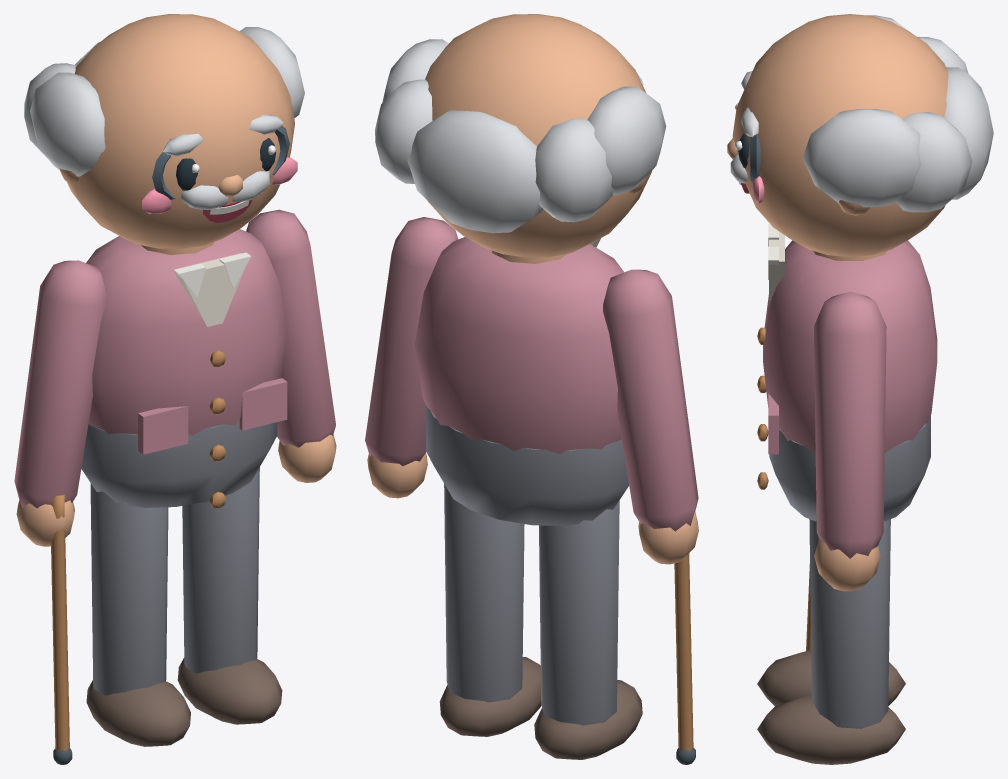
Rendered from char_senior.glb.
3 renders of one model, left to right at view 1: azimuth 30°, elevation 25°; view 2: azimuth 150°, elevation 25°; view 3: azimuth 270°, elevation 25°, orthographic. The views are drawn at different scales.
Parts seen in each view (by area): view 1: Head, Body, ArmR, LegR, LegL, ArmL; view 2: Head, Body, ArmR, LegR, LegL, ArmL; view 3: Head, Body, ArmL, LegL, LegR.
Boxes of the visible parts, <box> form: Head: <box>24,14,304,248</box>; Body: <box>81,229,287,508</box>; ArmR: <box>14,260,106,764</box>; LegR: <box>86,483,190,746</box>; LegL: <box>177,467,282,724</box>; ArmL: <box>246,209,336,482</box>; Head: <box>375,14,666,257</box>; Body: <box>415,237,629,525</box>; ArmR: <box>603,269,698,764</box>; LegR: <box>534,500,642,759</box>; LegL: <box>439,484,541,736</box>; ArmL: <box>365,217,458,498</box>; Head: <box>727,14,993,256</box>; Body: <box>757,224,937,521</box>; ArmL: <box>814,291,886,591</box>; LegL: <box>757,519,905,764</box>; LegR: <box>757,650,905,705</box>.
Bounding box in the file's own units: 0.6991 × 1.47 × 0.5012.
